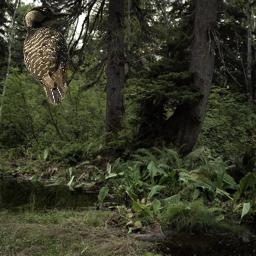Woodpecker: (23, 5, 82, 108)
